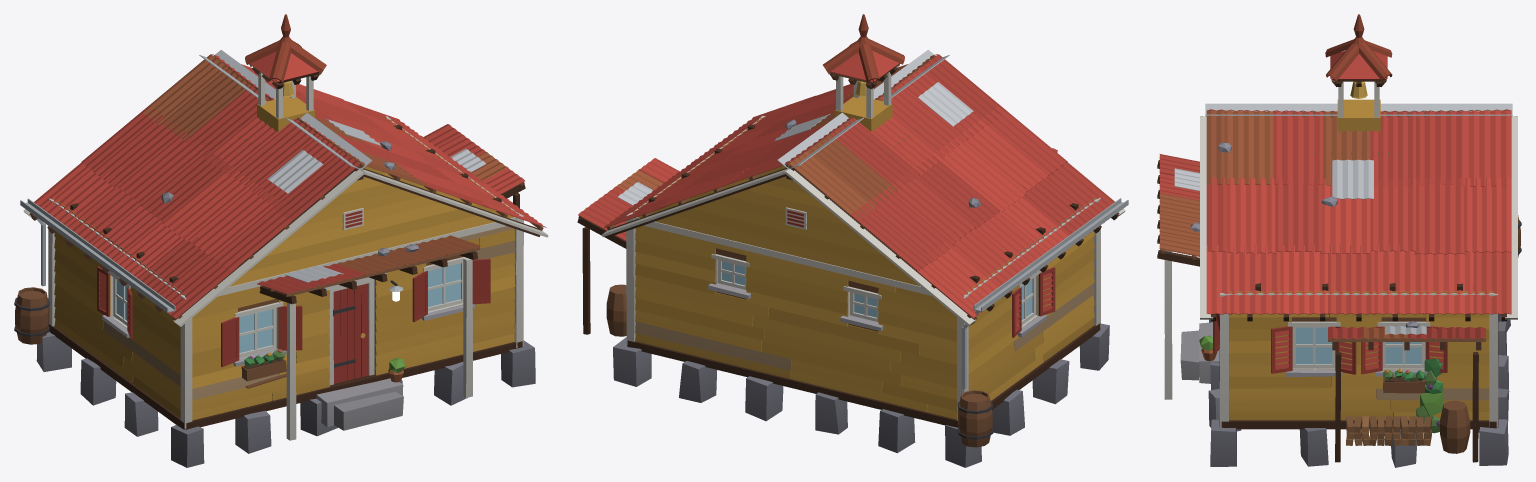
3 renders of one model, left to right at view 1: azimuth 30°, elevation 25°; view 2: azimuth 150°, elevation 25°; view 3: azimuth 270°, elevation 25°, orthographic.
Parts seen in each view (by area): view 1: P09_ROOF, P09_WALL_S, P09_WALL_W, P09_BASE, P09_WALL_E, P09_DOOR_main; view 2: P09_ROOF, P09_WALL_N, P09_WALL_W, P09_BASE, P09_WALL_E; view 3: P09_ROOF, P09_WALL_E, P09_BASE, P09_WALL_S.
Boxes of the visible parts, bbox=[...] form: P09_ROOF: bbox=[23, 14, 548, 326]; P09_WALL_S: bbox=[181, 155, 523, 440]; P09_WALL_W: bbox=[14, 198, 191, 421]; P09_BASE: bbox=[36, 324, 535, 467]; P09_WALL_E: bbox=[385, 116, 525, 345]; P09_DOOR_main: bbox=[333, 283, 368, 383]; P09_ROOF: bbox=[602, 14, 1125, 326]; P09_WALL_N: bbox=[627, 155, 967, 420]; P09_WALL_W: bbox=[957, 198, 1128, 447]; P09_BASE: bbox=[613, 323, 1109, 467]; P09_WALL_E: bbox=[577, 115, 765, 345]; P09_ROOF: bbox=[1200, 14, 1517, 321]; P09_WALL_E: bbox=[1220, 291, 1497, 462]; P09_BASE: bbox=[1180, 314, 1510, 467]; P09_WALL_S: bbox=[1157, 154, 1228, 419].
Bounding box in the file's own units: 8.34 × 6.76 × 6.09.
